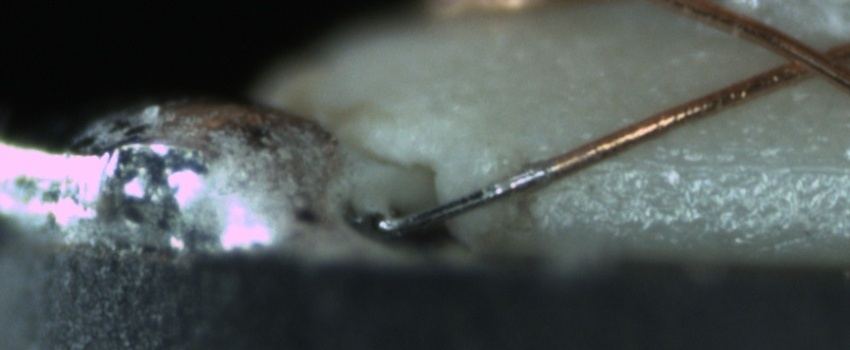CL: (765, 28, 846, 88)
DL: (616, 127, 849, 191)
TS: (377, 165, 559, 235)
